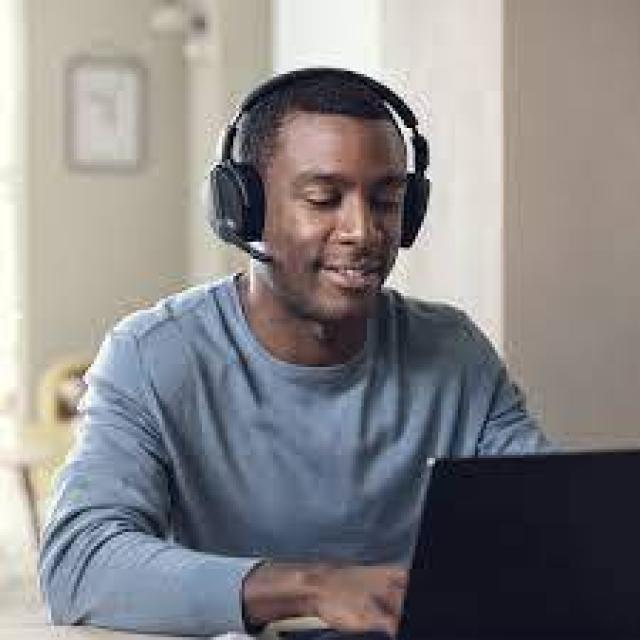headset: (204, 82, 472, 248)
